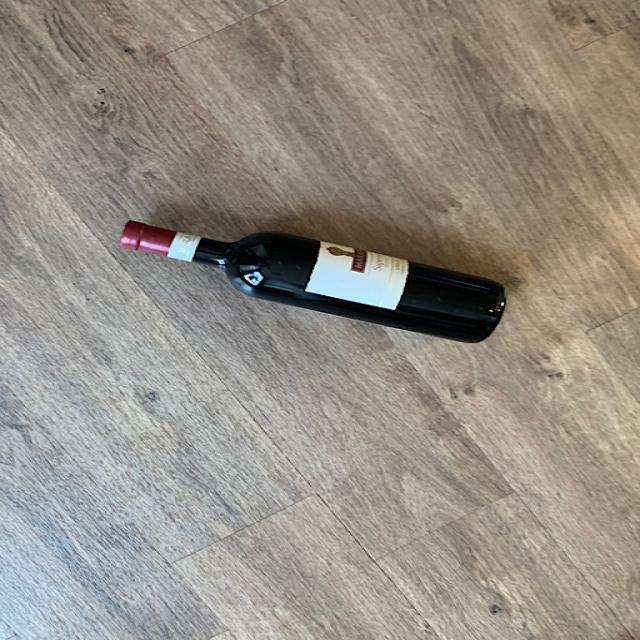litter: (104, 207, 512, 358)
